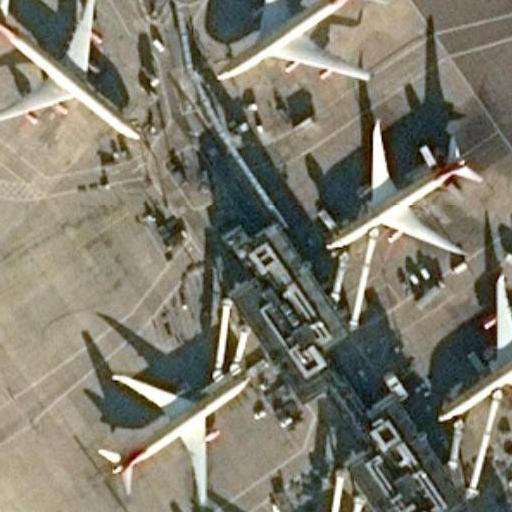Aircraft: (90, 361, 255, 504), (320, 114, 482, 258), (0, 0, 142, 143), (211, 0, 390, 83), (431, 272, 512, 425)
